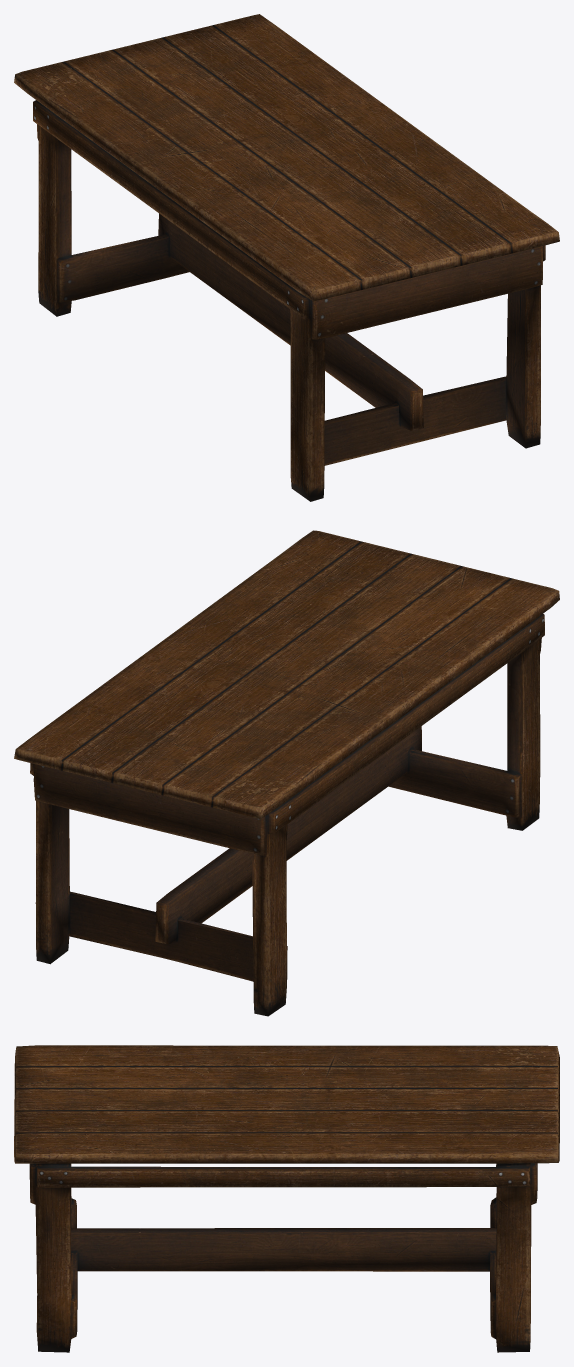
File: wooden_table.glb
3 renders of one model, top to bottom at view 1: azimuth 30°, elevation 25°; view 2: azimuth 150°, elevation 25°; view 3: azimuth 270°, elevation 25°, orthographic. The views are drawn at different scales.
Parts seen in each view (by area): view 1: RetopoGroup1; view 2: RetopoGroup1; view 3: RetopoGroup1.
Part boxes in pixels (bbox=[...]): RetopoGroup1: bbox=[14, 14, 559, 501]; RetopoGroup1: bbox=[14, 530, 559, 1016]; RetopoGroup1: bbox=[14, 1045, 559, 1352].
Bounding box in the file's own units: 1.15 × 0.9801 × 2.41.
Materials: 1 (1 with a texture image).
